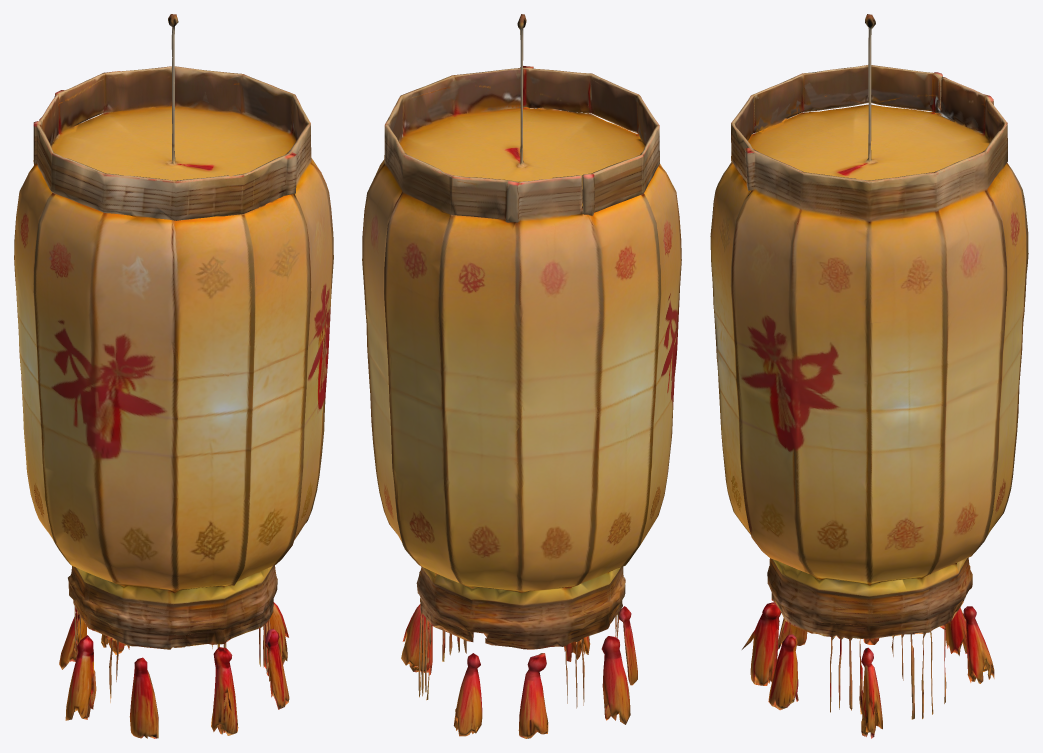
The model's file is kmd.glb.
3 views of the same model, side by side, from view 1: azimuth 30°, elevation 25°; view 2: azimuth 150°, elevation 25°; view 3: azimuth 270°, elevation 25° (orthographic).
Parts seen in each view (by area): view 1: mesh1; view 2: mesh1; view 3: mesh1.
Boxes of the visible parts, x1,y1,x2,y2 form: mesh1: (14,14,333,738); mesh1: (362,14,681,738); mesh1: (710,14,1028,738).
Size of the model in its own units: 0.252 by 0.5938 by 0.2532.
1 material, 1 textured.
